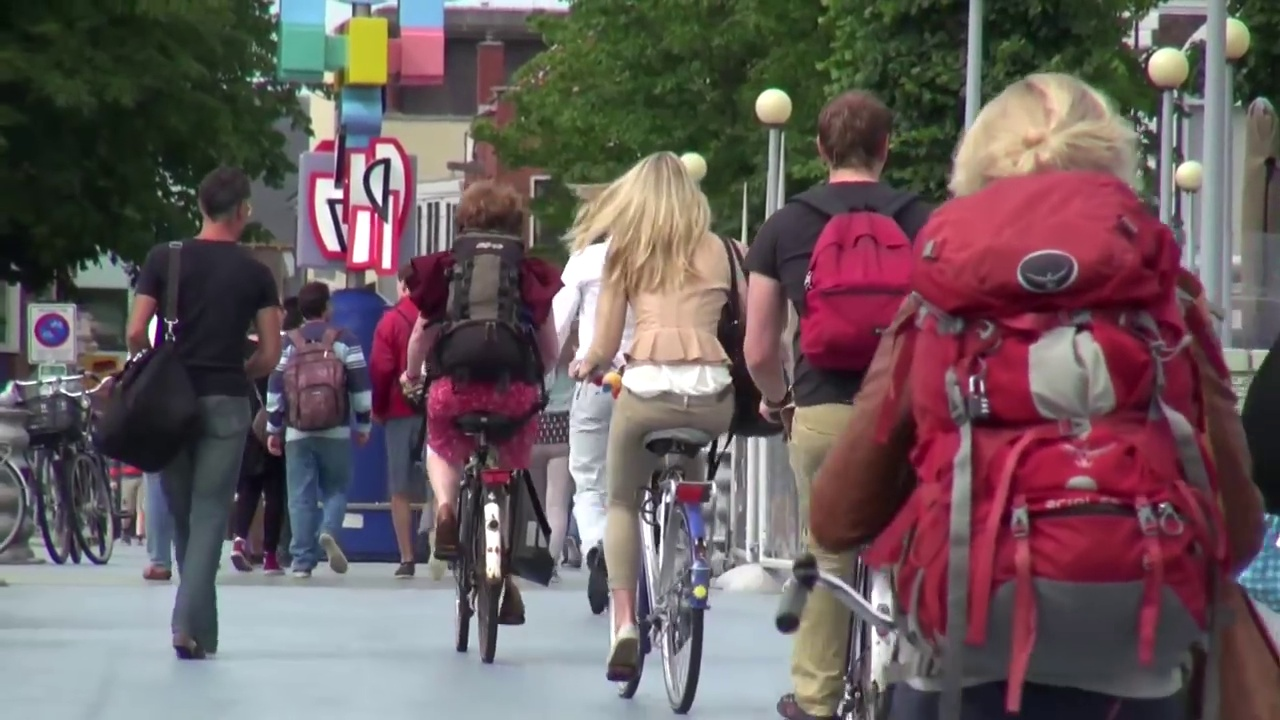cyclist_back: (592, 156, 758, 714), (407, 177, 559, 672)
